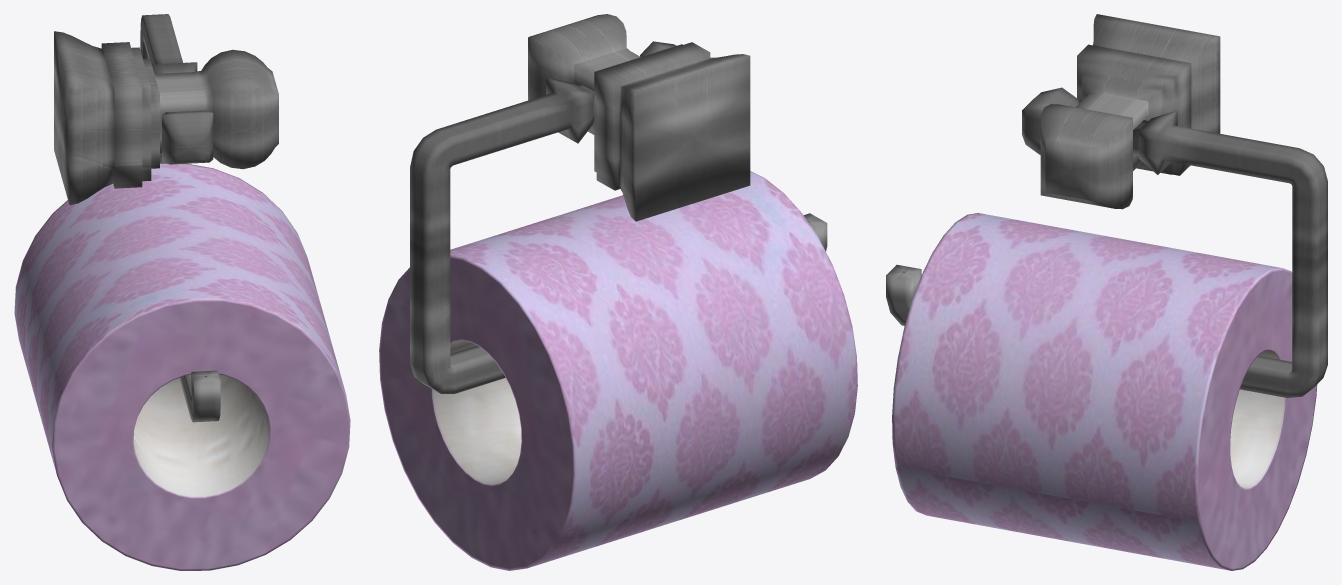
Rendered from klopapier.fbx.
3 renders of one model, left to right at view 1: azimuth 30°, elevation 25°; view 2: azimuth 150°, elevation 25°; view 3: azimuth 270°, elevation 25°, orthographic. The views are drawn at different scales.
Visible parts, largest first — view 1: Paper_2_Cylinder_014, Paper_1_Cylinder_013; view 2: Paper_2_Cylinder_014, Paper_1_Cylinder_013; view 3: Paper_2_Cylinder_014, Paper_1_Cylinder_013.
Boxes of the visible parts, x1=… form: Paper_2_Cylinder_014: x1=14, y1=163, x2=350, y2=570; Paper_1_Cylinder_013: x1=54, y1=14, x2=278, y2=422; Paper_2_Cylinder_014: x1=379, y1=171, x2=857, y2=570; Paper_1_Cylinder_013: x1=410, y1=14, x2=827, y2=393; Paper_2_Cylinder_014: x1=892, y1=213, x2=1317, y2=570; Paper_1_Cylinder_013: x1=886, y1=14, x2=1327, y2=397.
Size of the model in its own units: 1.52 by 1.86 by 1.63.
